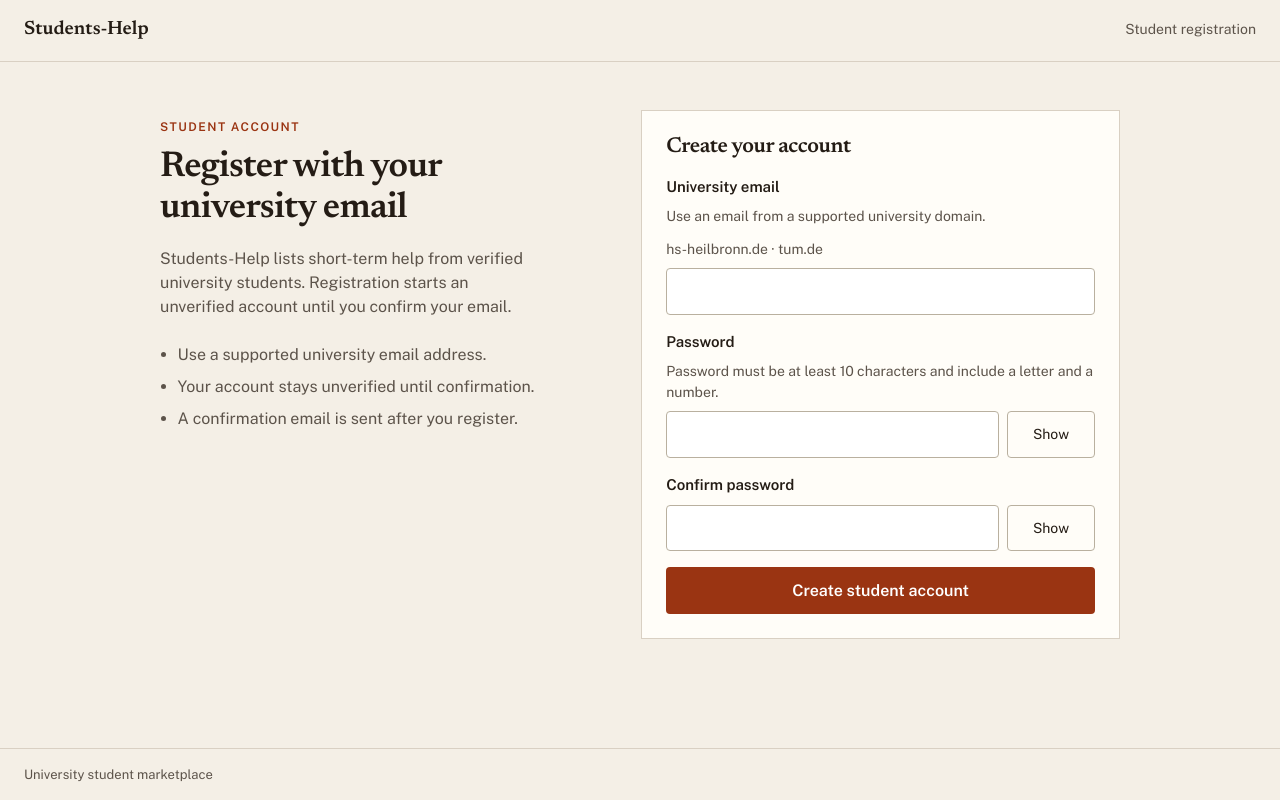
Test: Student registration › shows an invalid email error
The image size is (1280, 800).
Type "not-an-email" into the field labelled "University email" at (881,292), box [666,268,1095,315]
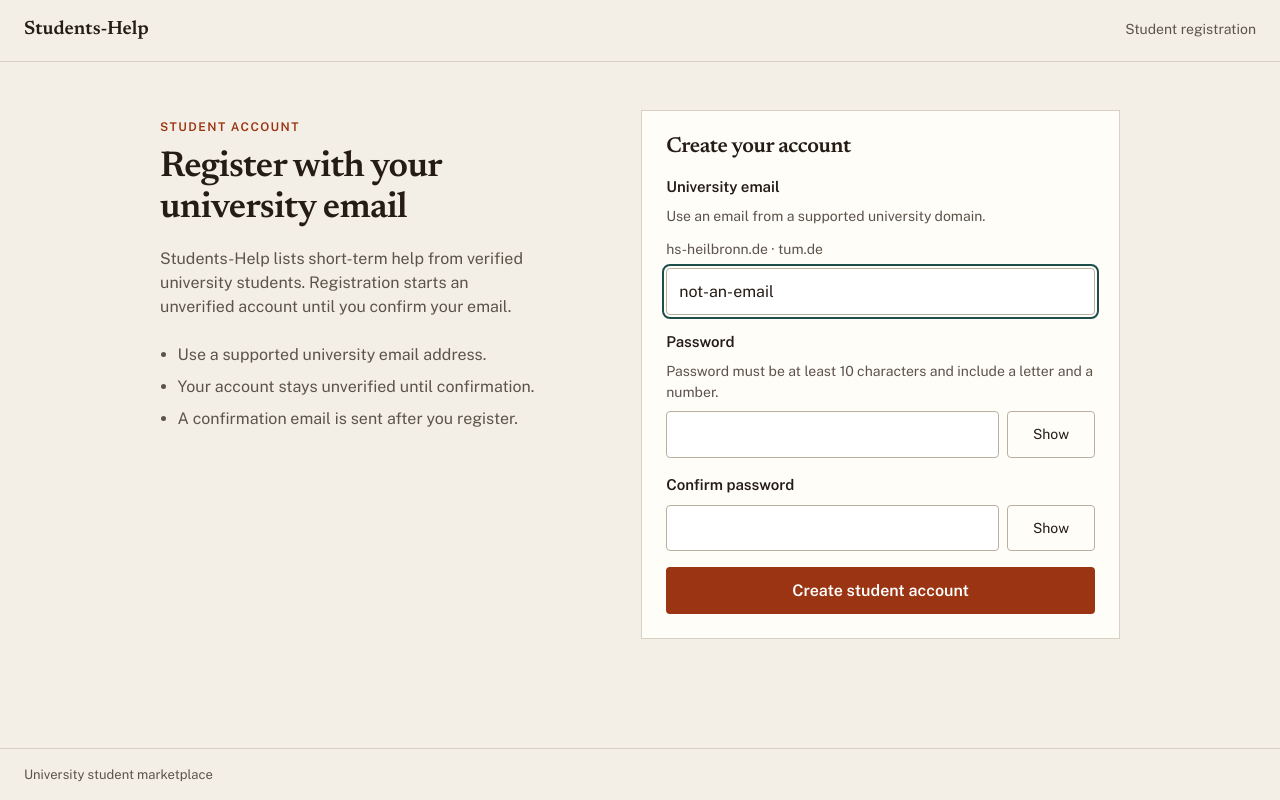
Type "securePass12" into the password field labelled "Password" at (833,435), box [666,411,999,458]
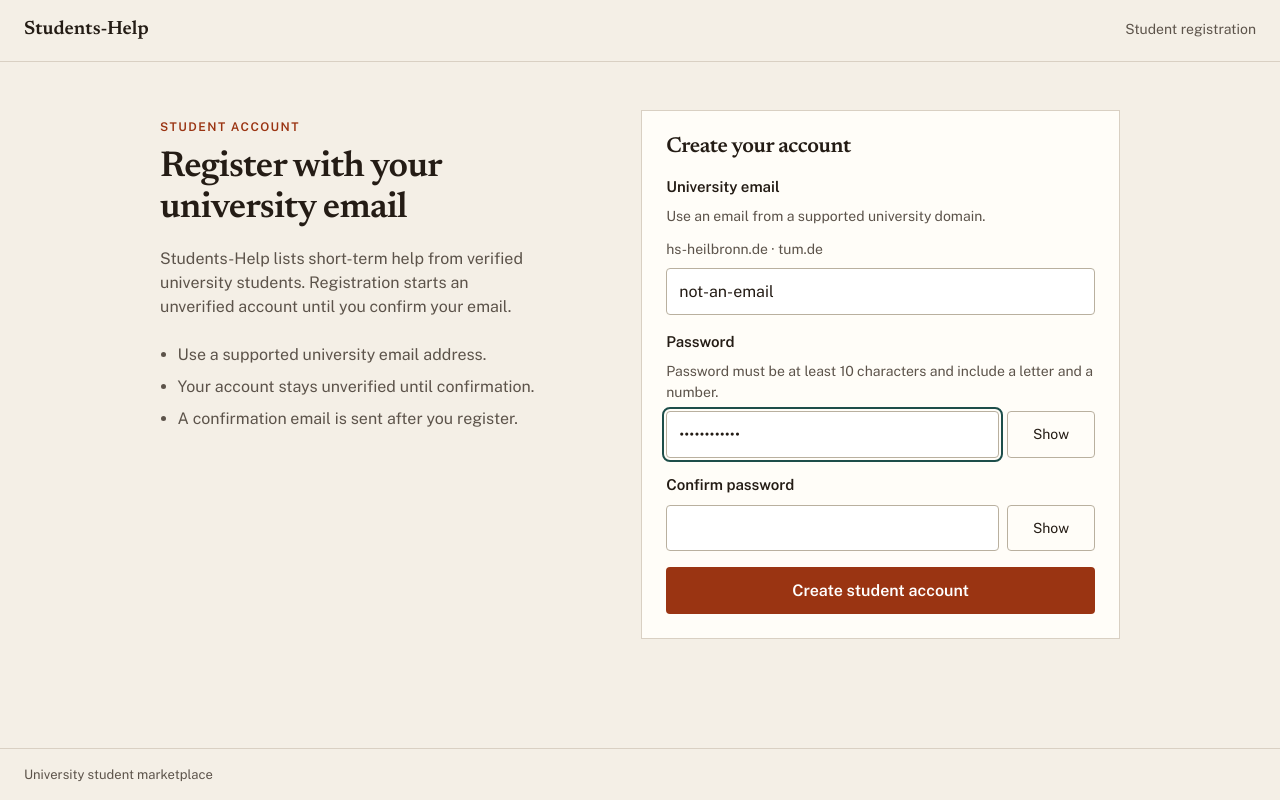
Type "securePass12" into the password field labelled "Confirm password" at (833,528), box [666,505,999,552]
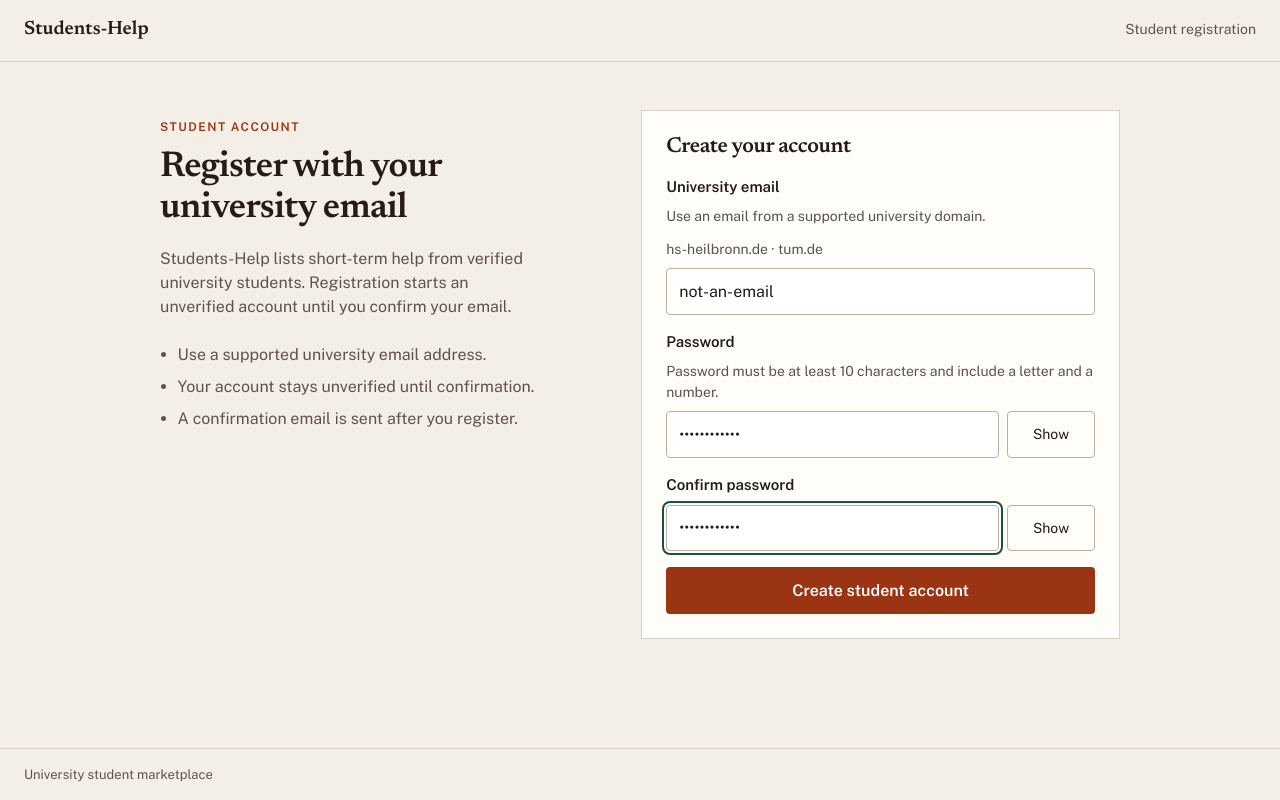
Click the button "Create student account" at (881,591), box [666,568,1095,614]
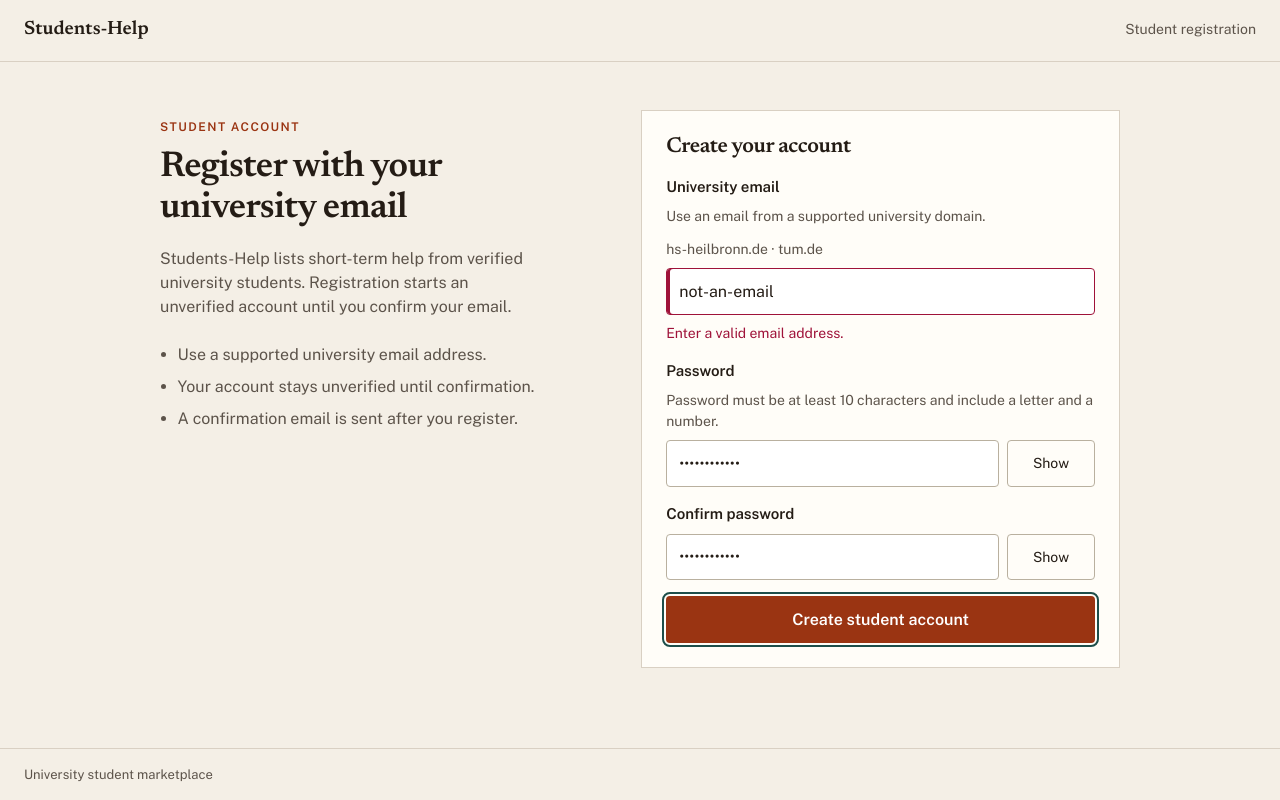
Expected: the text "Enter a valid email address." is shown, [666,325,844,341]
